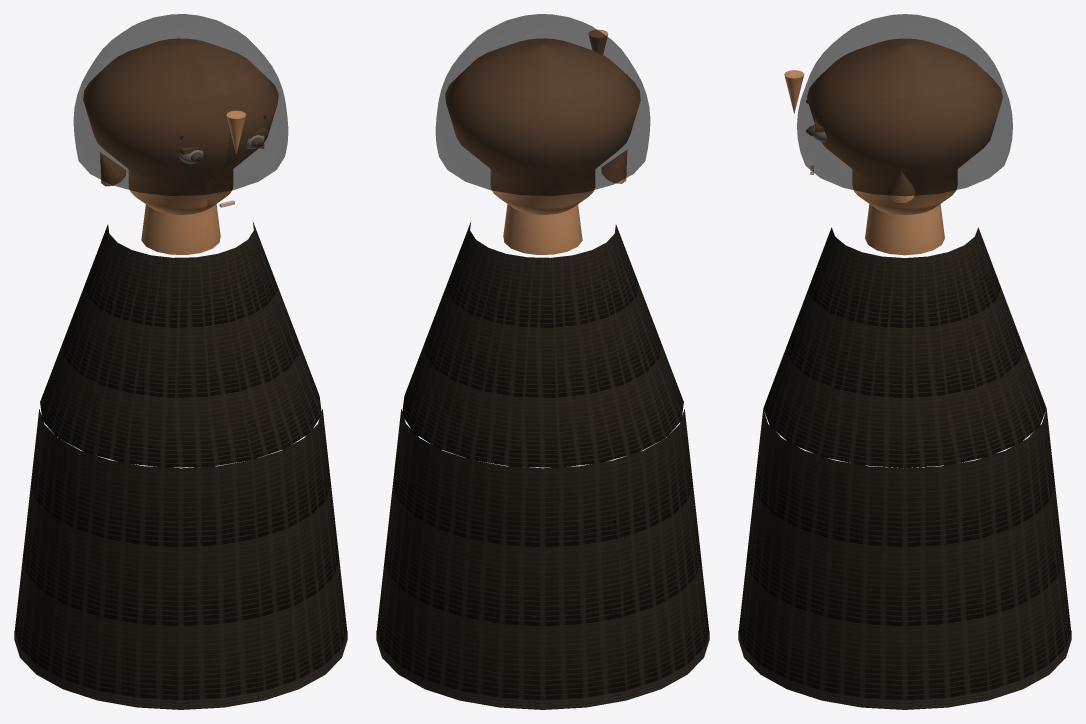
Rendered from john_mark.glb.
The picture shows the model from 3 angles, left to right: view 1: azimuth 30°, elevation 25°; view 2: azimuth 150°, elevation 25°; view 3: azimuth 270°, elevation 25°; orthographic projection.
Visible parts, largest first — view 1: Character_john_mark, head; view 2: Character_john_mark, head; view 3: Character_john_mark, head.
Part boxes in pixels (x1=…): Character_john_mark: x1=14, y1=14, x2=347, y2=709; head: x1=83, y1=38, x2=278, y2=214; Character_john_mark: x1=376, y1=14, x2=709, y2=709; head: x1=445, y1=38, x2=640, y2=214; Character_john_mark: x1=738, y1=14, x2=1071, y2=709; head: x1=807, y1=39, x2=1002, y2=214.
Size of the model in its own units: 0.8831 by 1.8 by 0.8831.
Materials: 9 (5 with a texture image).
